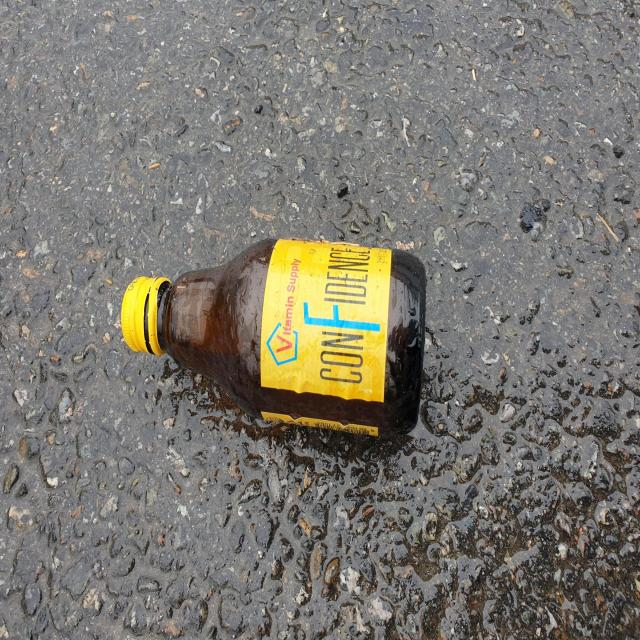glass: (122, 239, 426, 436)
